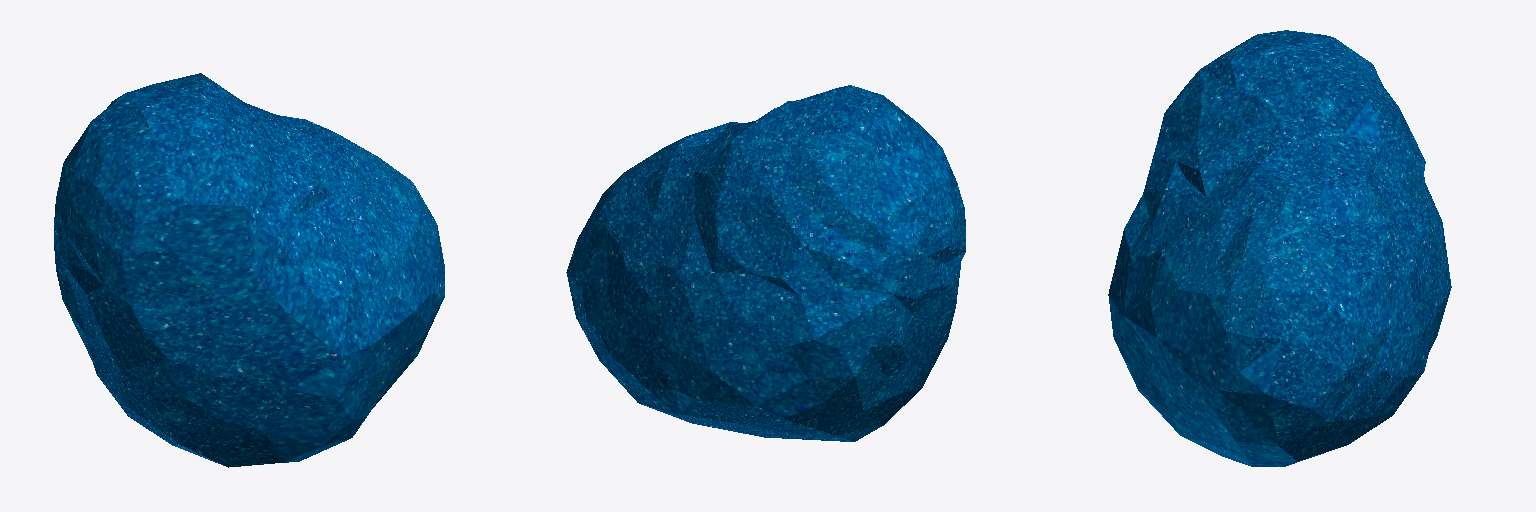
3 renders of one model, left to right at view 1: azimuth 30°, elevation 25°; view 2: azimuth 150°, elevation 25°; view 3: azimuth 270°, elevation 25°, orthographic.
Parts seen in each view (by area): view 1: rock_lp; view 2: rock_lp; view 3: rock_lp.
Part boxes in pixels (bbox=[...]): rock_lp: bbox=[54, 73, 444, 467]; rock_lp: bbox=[566, 85, 965, 441]; rock_lp: bbox=[1108, 30, 1451, 466].
Size of the model in its own units: 1.02 by 0.9606 by 0.8412.
1 materials, 1 textured.